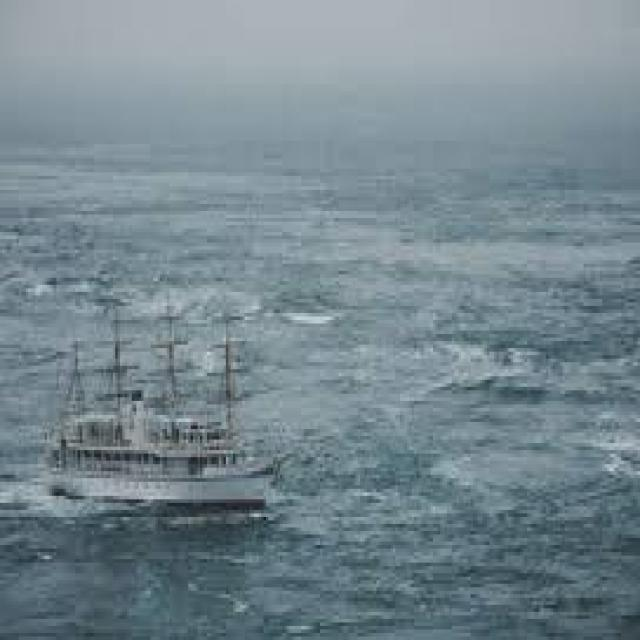fishing boat: (30, 279, 294, 512)
